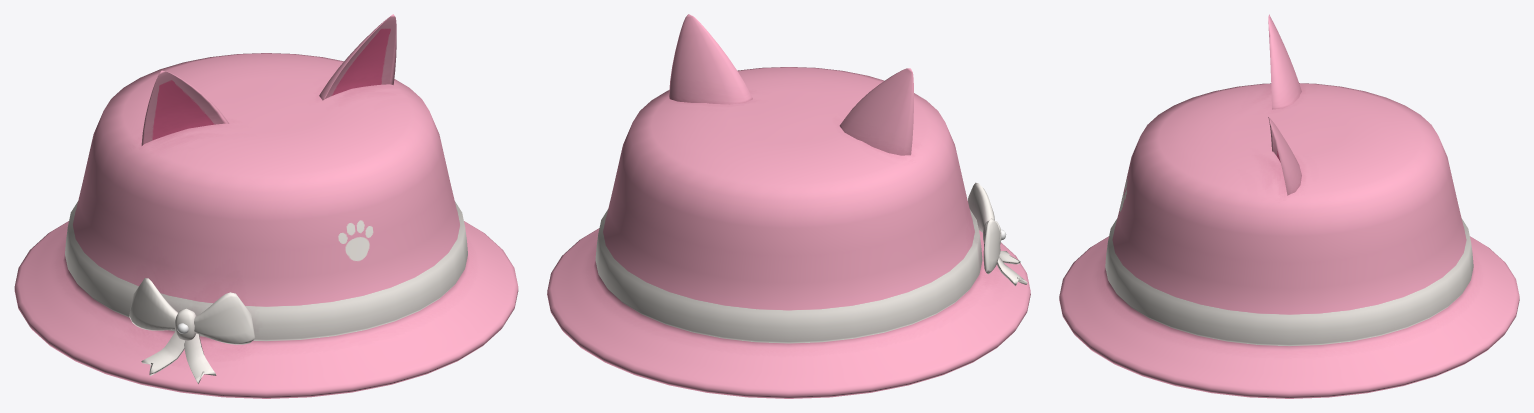
File: NekoBucketHat_Fraise.fbx
3 renders of one model, left to right at view 1: azimuth 30°, elevation 25°; view 2: azimuth 150°, elevation 25°; view 3: azimuth 270°, elevation 25°, orthographic. The views are drawn at different scales.
Parts seen in each view (by area): view 1: NekoBucketHat; view 2: NekoBucketHat; view 3: NekoBucketHat.
Part boxes in pixels (left/top/right/bottom): NekoBucketHat: left=14, top=14, right=518, bottom=398; NekoBucketHat: left=547, top=14, right=1030, bottom=398; NekoBucketHat: left=1059, top=14, right=1519, bottom=398.
Size of the model in its own units: 1.74 by 0.9888 by 1.74.
Materials: 1 (1 with a texture image).
